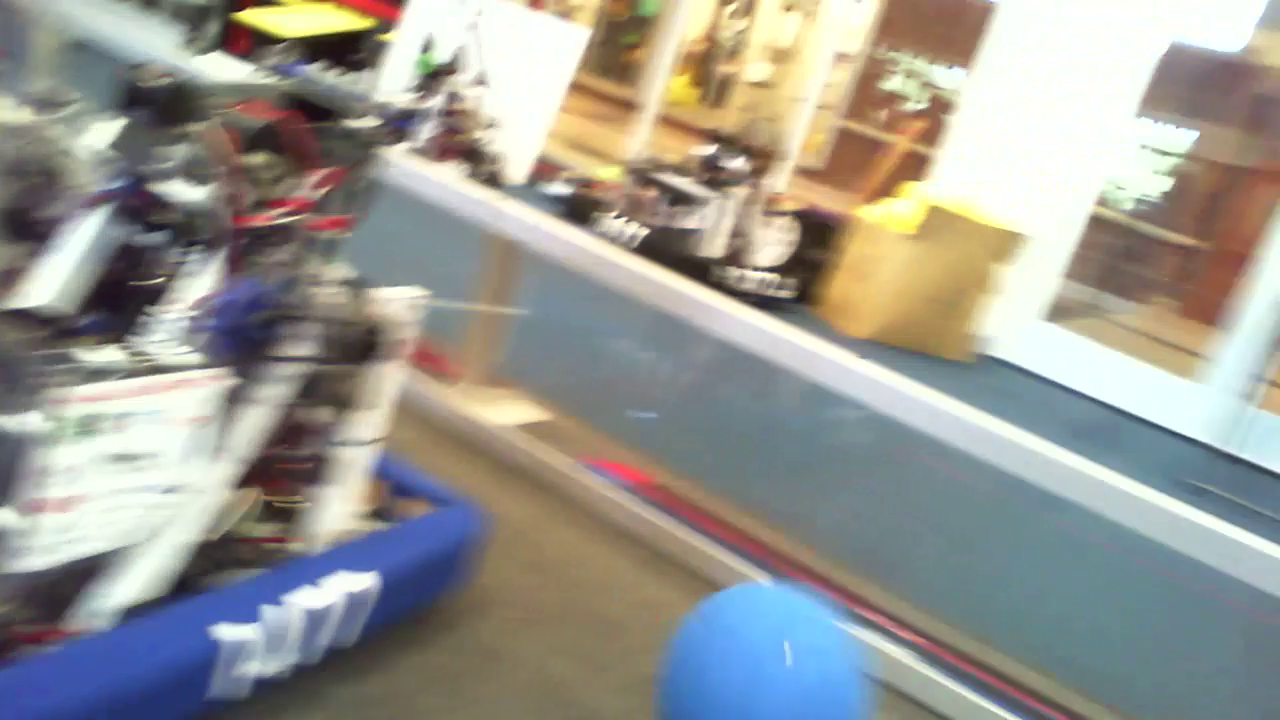blue_cargo: (664, 581, 876, 720)
blue_robot: (3, 41, 490, 683)
